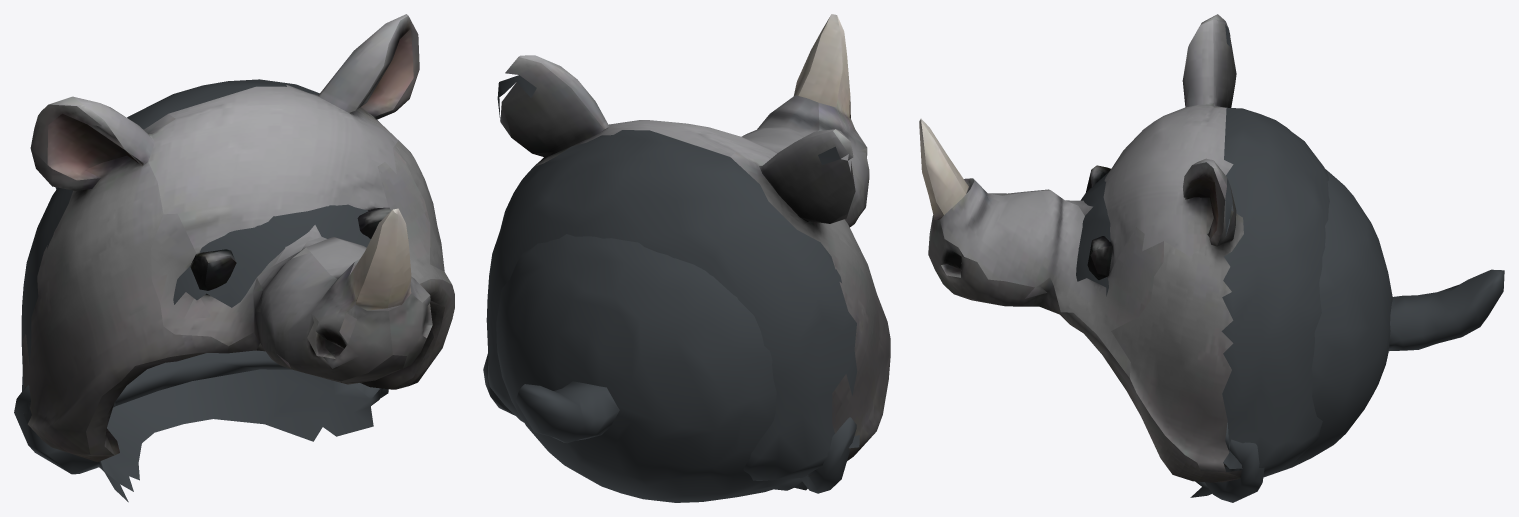
File: rhino.glb
3 renders of one model, left to right at view 1: azimuth 30°, elevation 25°; view 2: azimuth 150°, elevation 25°; view 3: azimuth 270°, elevation 25°, orthographic. The views are drawn at different scales.
Parts seen in each view (by area): view 1: geometry_0, HoodAnatomicalLining; view 2: geometry_0, HoodAnatomicalLining; view 3: geometry_0, HoodAnatomicalLining.
Boxes of the visible parts, left/top/right/bottom form: geometry_0: left=21, top=14, right=454, bottom=462; HoodAnatomicalLining: left=14, top=204, right=388, bottom=502; geometry_0: left=486, top=14, right=890, bottom=480; HoodAnatomicalLining: left=483, top=234, right=856, bottom=502; geometry_0: left=919, top=14, right=1504, bottom=482; HoodAnatomicalLining: left=1076, top=169, right=1392, bottom=502.
Size of the model in its own units: 0.5271 by 0.511 by 0.7402.
2 materials, 1 textured.
